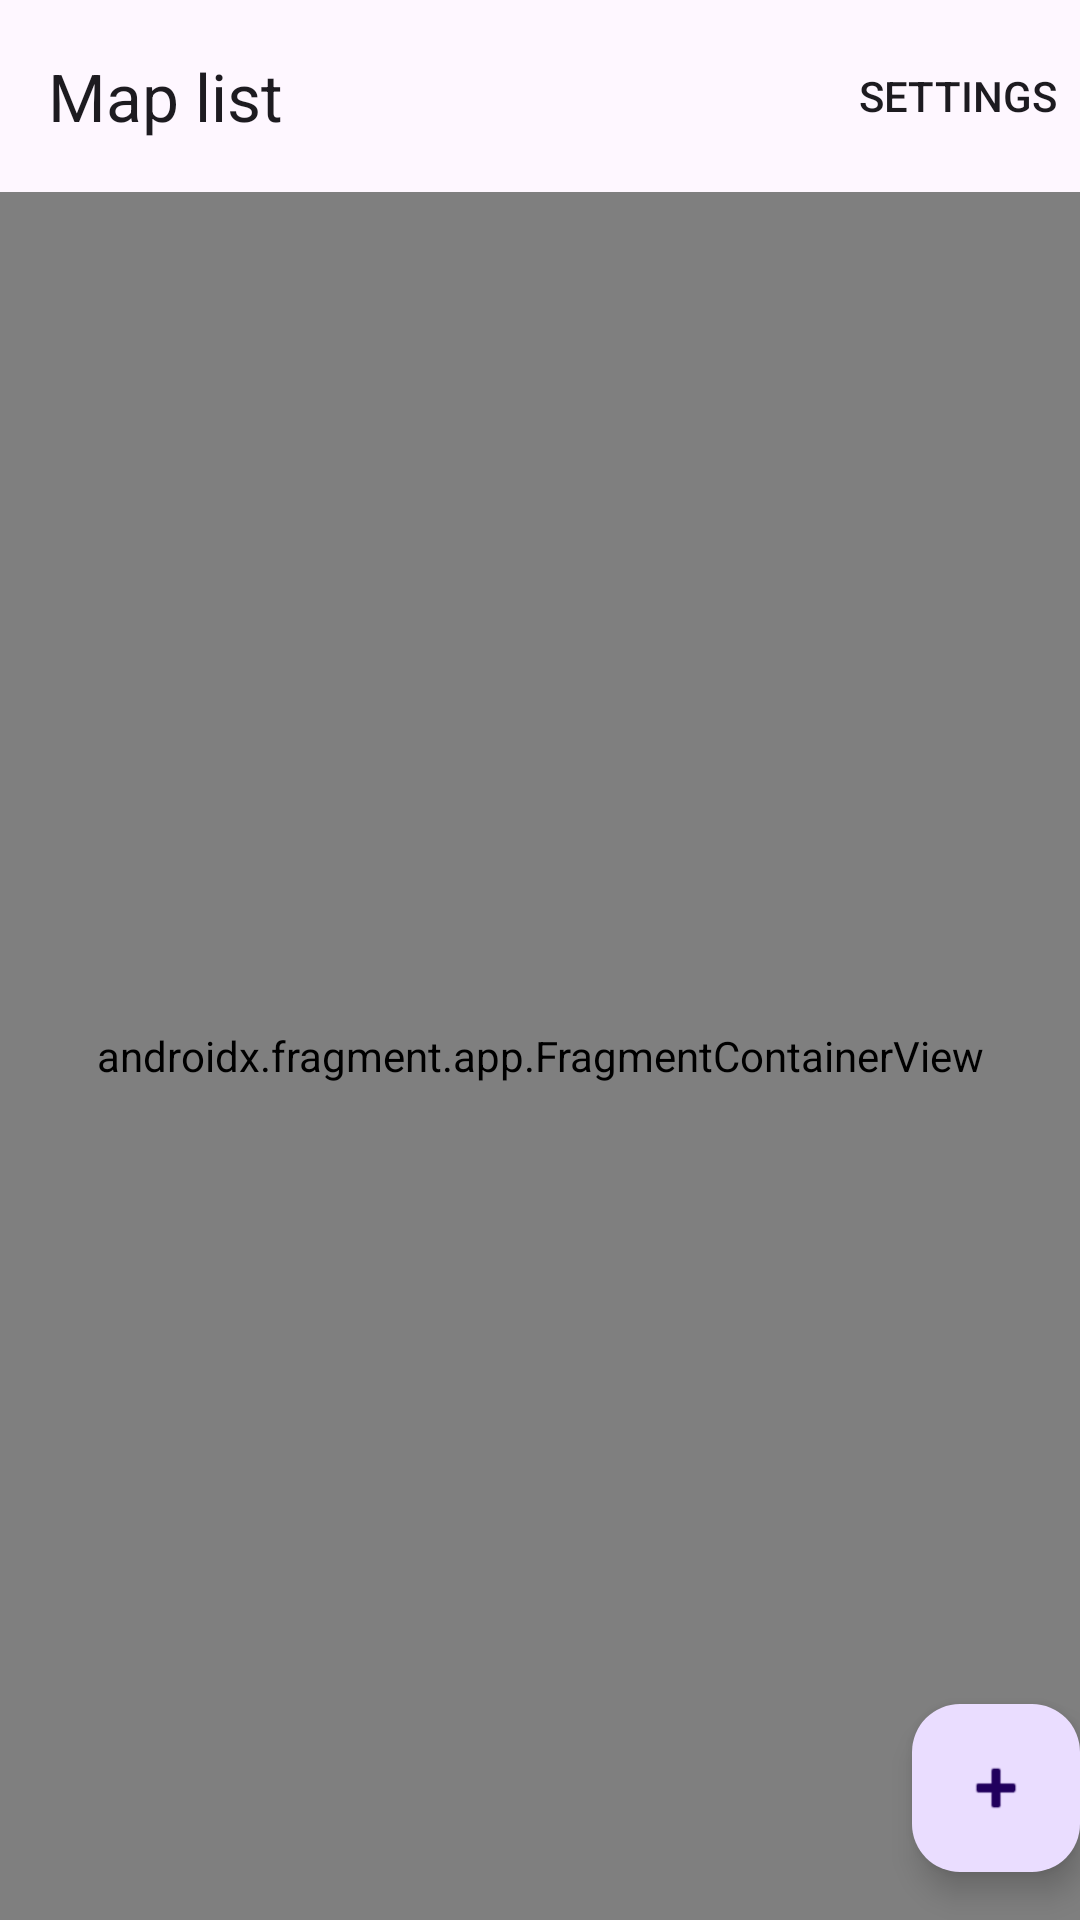

Point at icon controls on the screen. Image size 1080×1920, points as (x=x, y=y).
Add map: (x=996, y=1788)
